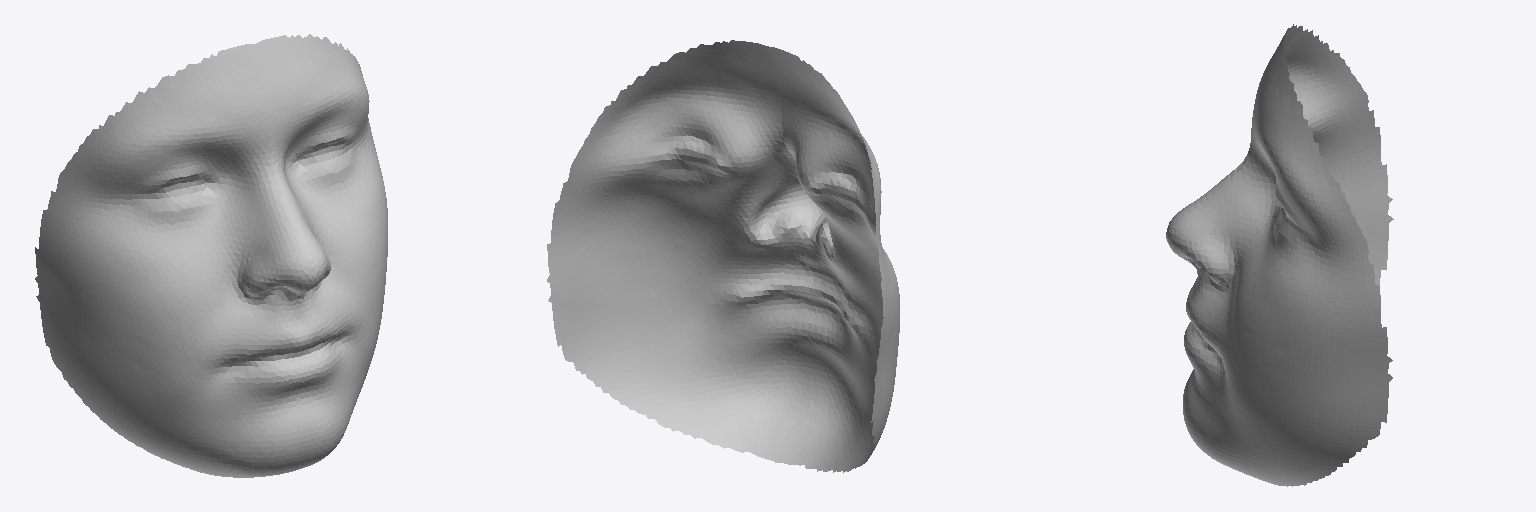
The model's file is Template.obj.
3 renders of one model, left to right at view 1: azimuth 30°, elevation 25°; view 2: azimuth 150°, elevation 25°; view 3: azimuth 270°, elevation 25°, orthographic.
Visible parts, largest first — view 1: Template; view 2: Template; view 3: Template.
Part boxes in pixels (bbox=[...]): Template: bbox=[35, 34, 387, 477]; Template: bbox=[547, 40, 899, 472]; Template: bbox=[1166, 24, 1393, 486].
Bounding box in the file's own units: 133 × 161 × 78.38.